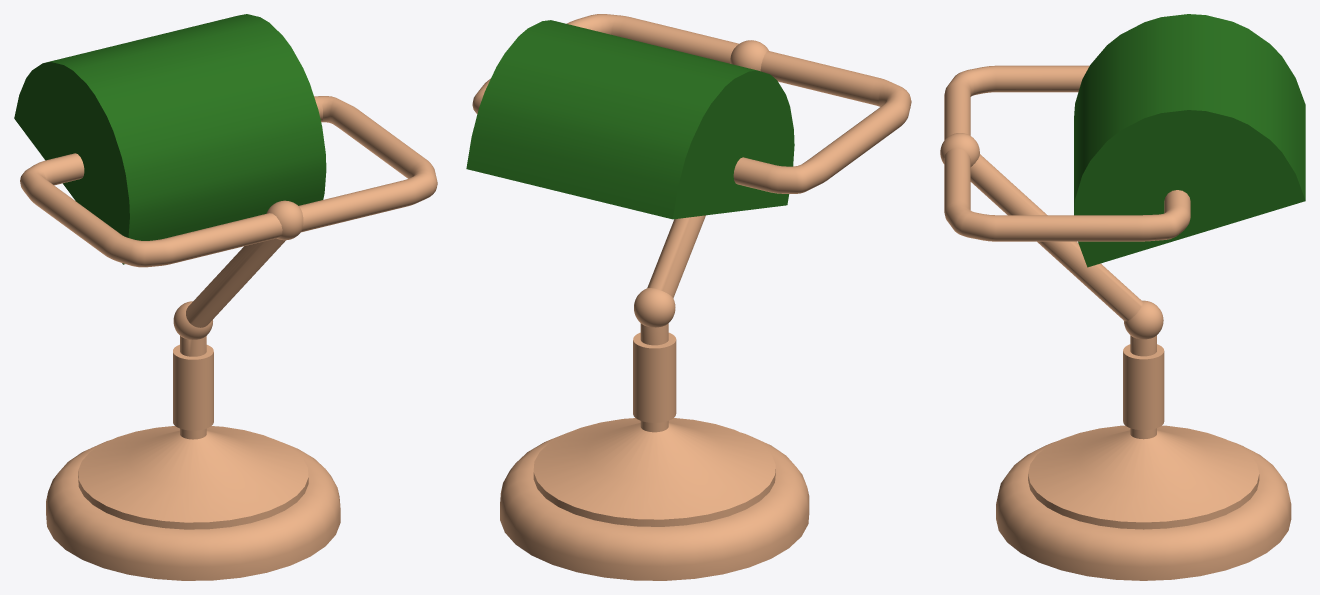
The model's file is tableLamp.fbx.
3 views of the same model, side by side, from view 1: azimuth 30°, elevation 25°; view 2: azimuth 150°, elevation 25°; view 3: azimuth 270°, elevation 25° (orthographic). The views are drawn at different scales.
Visible parts, largest first — view 1: tableLamp; view 2: tableLamp; view 3: tableLamp.
Boxes of the visible parts, x1,y1,x2,y2 form: tableLamp: [14, 14, 437, 580]; tableLamp: [466, 14, 911, 580]; tableLamp: [940, 14, 1305, 580].
Bounding box in the file's own units: 257 × 341 × 247.
